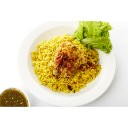briyani: (36, 42, 93, 90)
